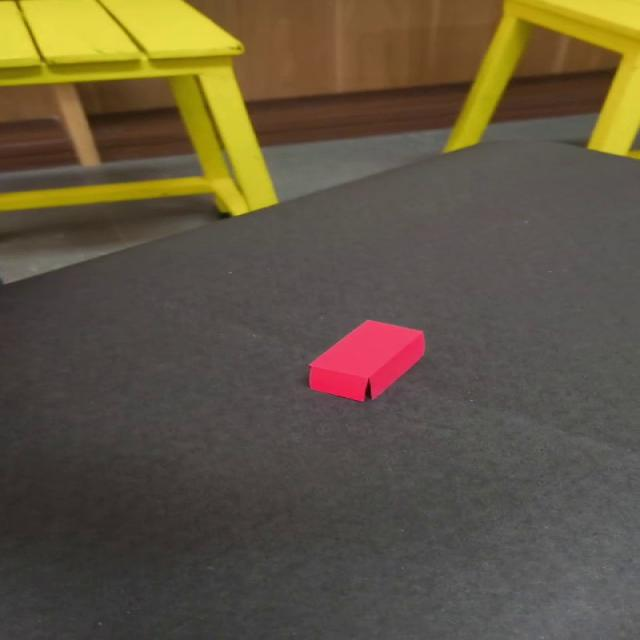red block: (307, 319, 425, 402)
